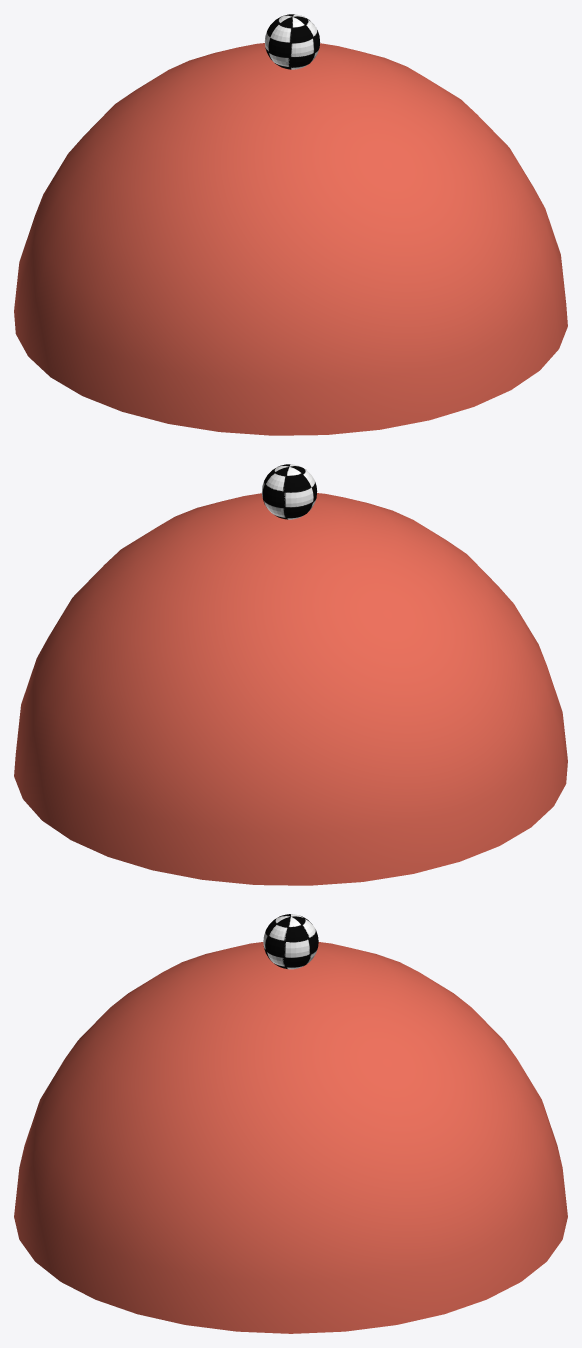
File: cupula_jml-test.glb
The picture shows the model from 3 angles, top to bottom: view 1: azimuth 30°, elevation 25°; view 2: azimuth 150°, elevation 25°; view 3: azimuth 270°, elevation 25°; orthographic projection.
Parts seen in each view (by area): view 1: Dome, Sphere; view 2: Dome, Sphere; view 3: Dome, Sphere.
Boxes of the visible parts, left/top/right/bottom form: Dome: left=14, top=43, right=567, bottom=435; Sphere: left=264, top=14, right=320, bottom=69; Dome: left=14, top=493, right=567, bottom=885; Sphere: left=261, top=464, right=317, bottom=519; Dome: left=14, top=942, right=567, bottom=1333; Sphere: left=263, top=914, right=318, bottom=969.
Size of the model in its own units: 20 by 11.99 by 20.
2 materials, 1 textured.
